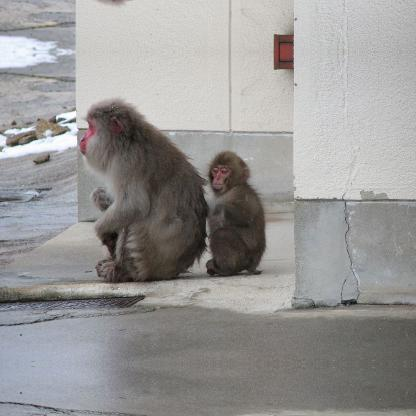Monkey: (79, 96, 209, 282), (204, 150, 266, 278)
